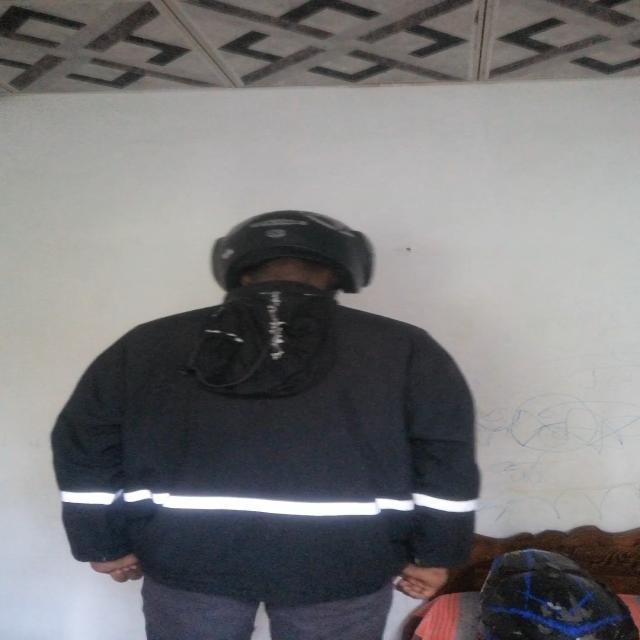Helmet_Wearer: (169, 205, 376, 319)
Jacket_Wearer: (40, 297, 501, 574)
Person: (41, 201, 464, 637)
